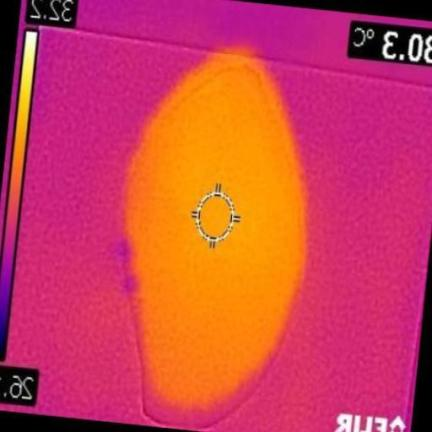mango: (127, 55, 306, 424)
